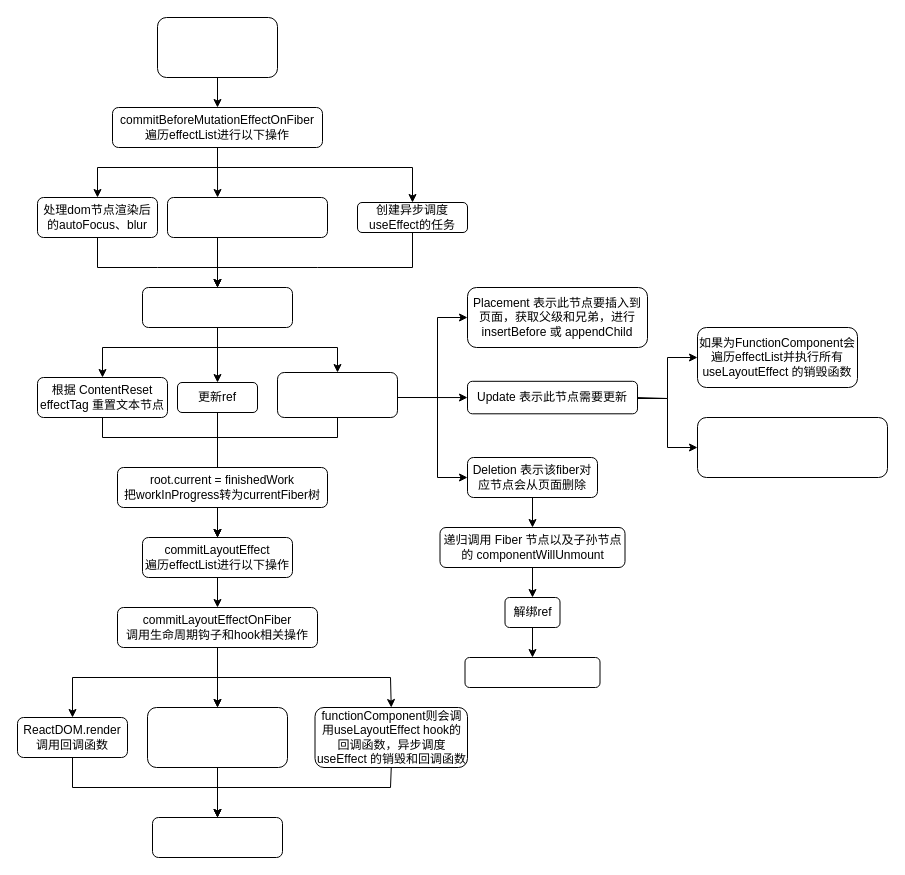
Image size: 905x875. Some labels were removed from this diagram. Here are the shapes that lost their labels. From the top down, the centre of each, then its label:
[217,47]: commit分为三个阶段 1. beforeMutation 2. mutation 3. layout
[247,217]: 调用 getSnapshotBeforeUpdate
[217,307]: commitMutationEffects 遍历effectList进行以下操作
[337,395]: 根据 effectTag 分别处理 fiber 节点
[792,447]: 如果为HostComponent将completeWork阶段赋值的 UpdateQueue 对应内容渲染在页面
[532,672]: 调度 useEffect 销毁函数
[217,737]: classComponent则会调用componentDidMount或componentDidUpdate，setState的回调函数
[217,837]: commitAttachRef 获取dom实例，更新ref
